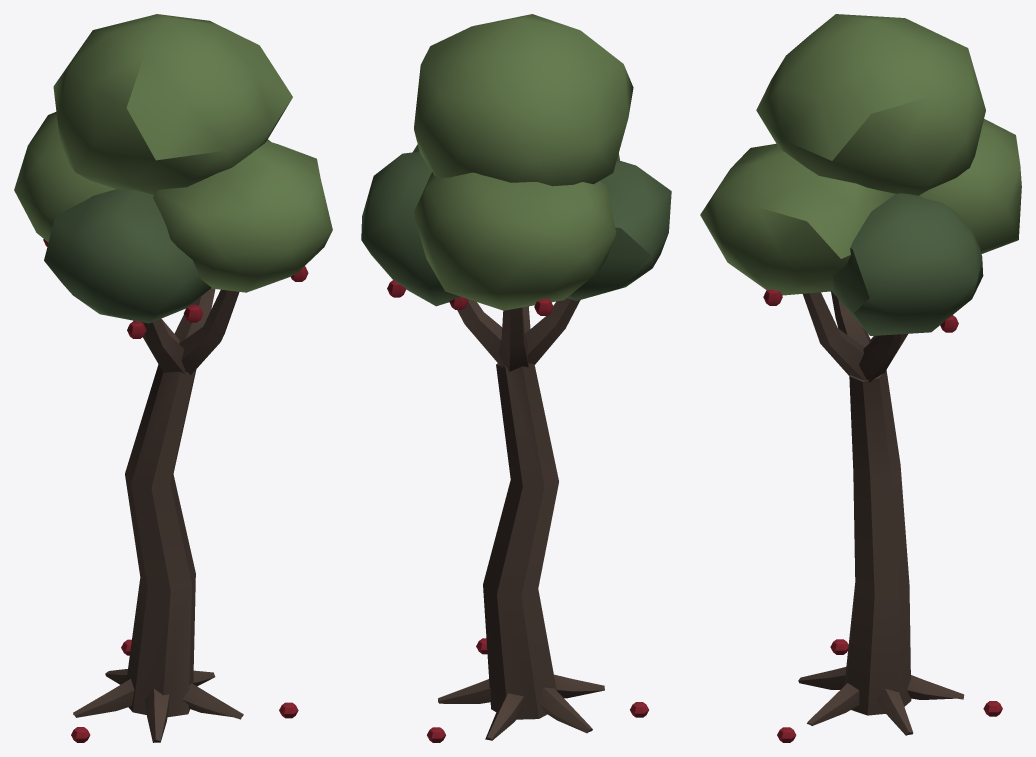
Rendered from tree_rotapple_s3.glb.
3 views of the same model, side by side, from view 1: azimuth 30°, elevation 25°; view 2: azimuth 150°, elevation 25°; view 3: azimuth 270°, elevation 25° (orthographic).
Visible parts, largest first — view 1: tree_rotapple_s3; view 2: tree_rotapple_s3; view 3: tree_rotapple_s3.
Part boxes in pixels (left/top/right/bottom): tree_rotapple_s3: left=14, top=14, right=332, bottom=742; tree_rotapple_s3: left=361, top=14, right=671, bottom=742; tree_rotapple_s3: left=700, top=14, right=1021, bottom=742.
Bounding box in the file's own units: 1.76 × 4.24 × 1.81.
